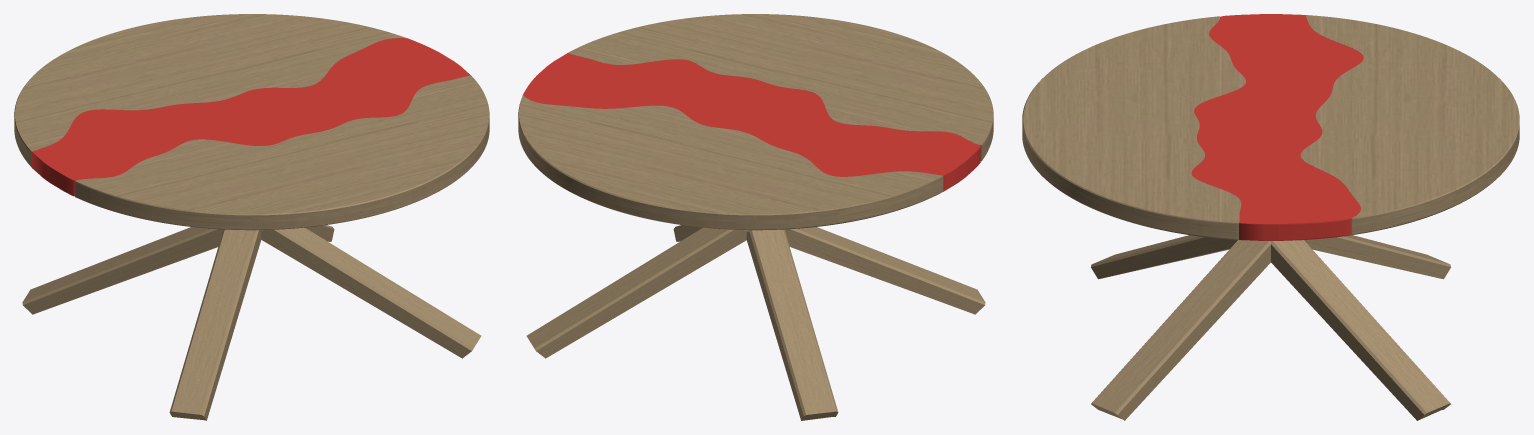
Rendered from round-ash-epoxy-crimson.glb.
3 views of the same model, side by side, from view 1: azimuth 30°, elevation 25°; view 2: azimuth 150°, elevation 25°; view 3: azimuth 270°, elevation 25° (orthographic). The views are drawn at different scales.
Parts seen in each view (by area): view 1: Wood_Round_EpoxyFar, Wood_Round_EpoxyNear, Resin_Round, Base_Round; view 2: Wood_Round_EpoxyNear, Wood_Round_EpoxyFar, Resin_Round, Base_Round; view 3: Wood_Round_EpoxyFar, Wood_Round_EpoxyNear, Resin_Round, Base_Round.
Boxes of the visible parts, x1,y1,x2,y2 form: Wood_Round_EpoxyFar: [75, 75, 489, 230]; Wood_Round_EpoxyNear: [14, 14, 406, 166]; Resin_Round: [31, 38, 470, 196]; Base_Round: [22, 225, 481, 420]; Wood_Round_EpoxyNear: [518, 95, 943, 230]; Wood_Round_EpoxyFar: [567, 14, 993, 161]; Resin_Round: [523, 53, 980, 191]; Base_Round: [526, 225, 985, 420]; Wood_Round_EpoxyFar: [1022, 16, 1245, 239]; Wood_Round_EpoxyNear: [1300, 15, 1519, 235]; Resin_Round: [1191, 14, 1363, 240]; Base_Round: [1091, 235, 1450, 420].
Bounding box in the file's own units: 1.52 × 0.762 × 1.52.
Materials: 2 (1 with a texture image).
